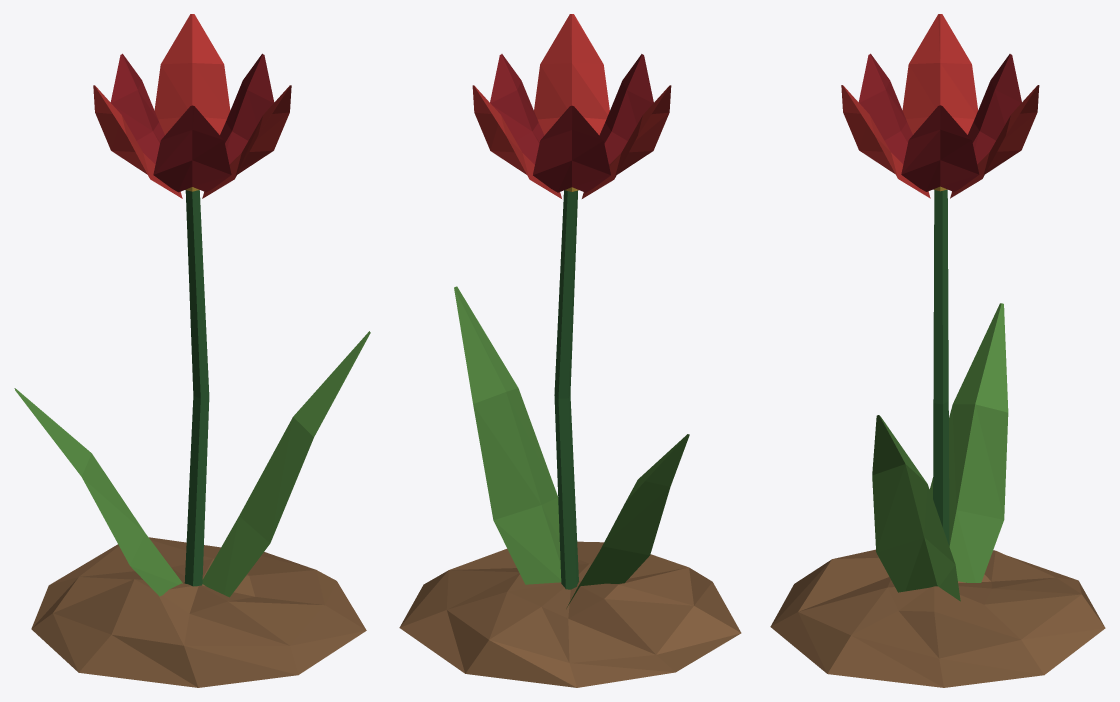
The model's file is ZB_cicek_lale_a3.glb.
3 renders of one model, left to right at view 1: azimuth 30°, elevation 25°; view 2: azimuth 150°, elevation 25°; view 3: azimuth 270°, elevation 25°, orthographic.
Parts seen in each view (by area): view 1: ZB_cicek_lale_a3; view 2: ZB_cicek_lale_a3; view 3: ZB_cicek_lale_a3.
Part boxes in pixels (bbox=[...]): ZB_cicek_lale_a3: bbox=[14, 14, 370, 687]; ZB_cicek_lale_a3: bbox=[399, 14, 741, 687]; ZB_cicek_lale_a3: bbox=[770, 14, 1105, 687].
Bounding box in the file's own units: 0.3223 × 0.5805 × 0.3174.
